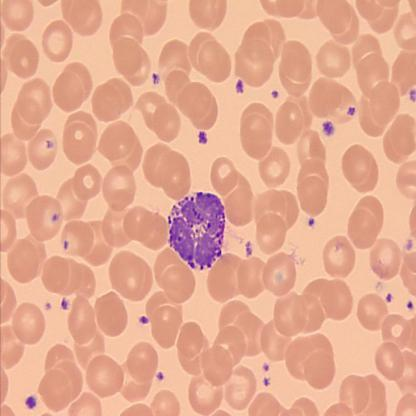Basophil: (166, 188, 227, 271)
